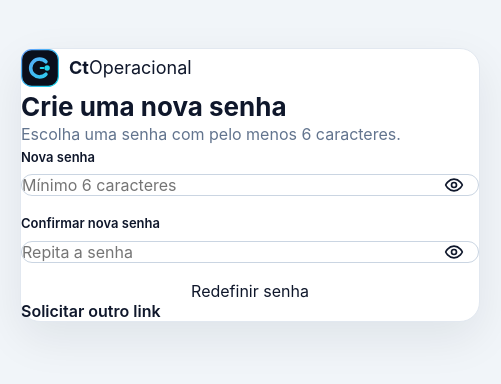
Test: recuperação de senha › atualiza os indicadores de força e permite mostrar as senhas
This screenshot has width=501, height=384.
Type "abcdef" into the password field labelled "Nova senha".
click(250, 185); type("abcdef")  # box [21,174,479,196]
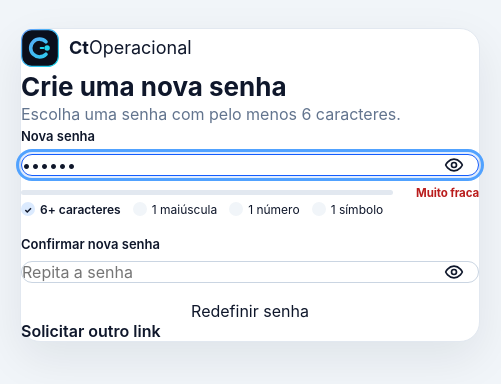
Type "A1!" into the password field labelled "Nova senha".
click(250, 165); type("A1!")  # box [21,154,479,176]
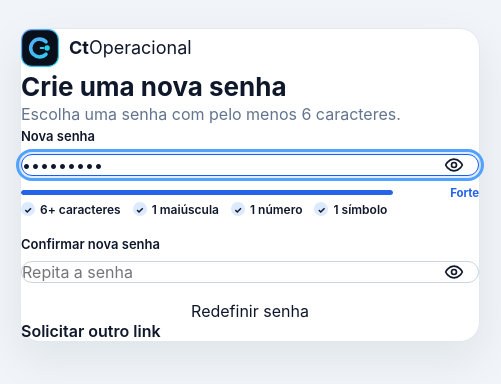
Check: the progress indicator named "Força da senha: Forte" has attribute aria-valuenow="4", box [21,186,479,200]
Check: the text "1 maiúscula" has class "is-ok", box [133,202,219,217]
Check: the text "1 número" has class "is-ok", box [231,202,302,217]
Type "abcdefA1!" into the password field labelled "Confirmar nova senha".
click(250, 272); type("abcdefA1!")  # box [21,262,479,284]
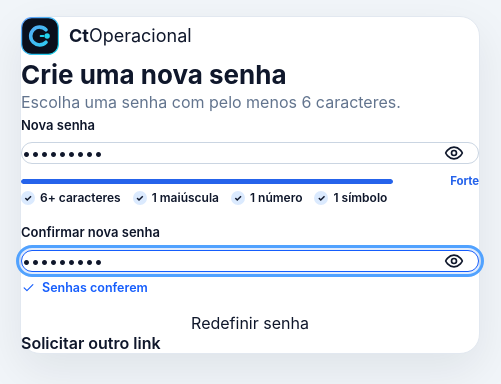
Check: the text "Senhas conferem" is shown, box [21,280,148,295]
Click the button named "Mostrar senha".
click(454, 153)  # box [435,134,473,172]
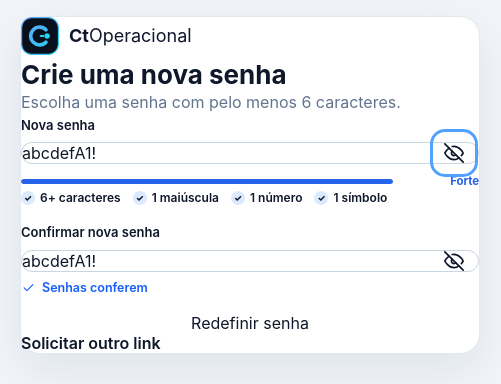
Check: the field labelled "Nova senha" shows its text, box [21,142,479,164]
Check: the field labelled "Confirmar nova senha" shows its text, box [21,250,479,272]
